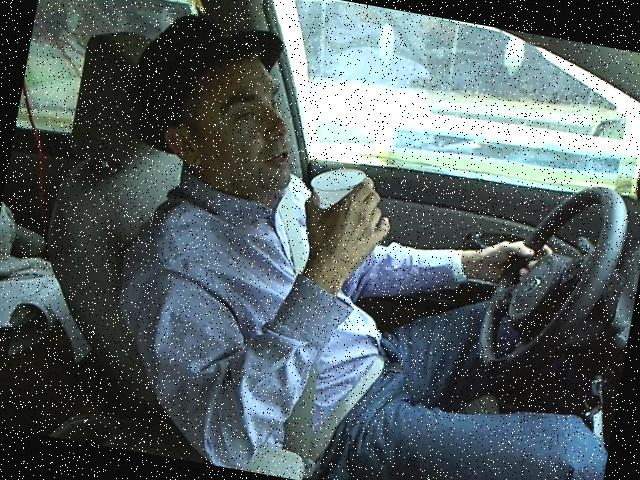c4 - Drinking: (52, 0, 639, 479)
